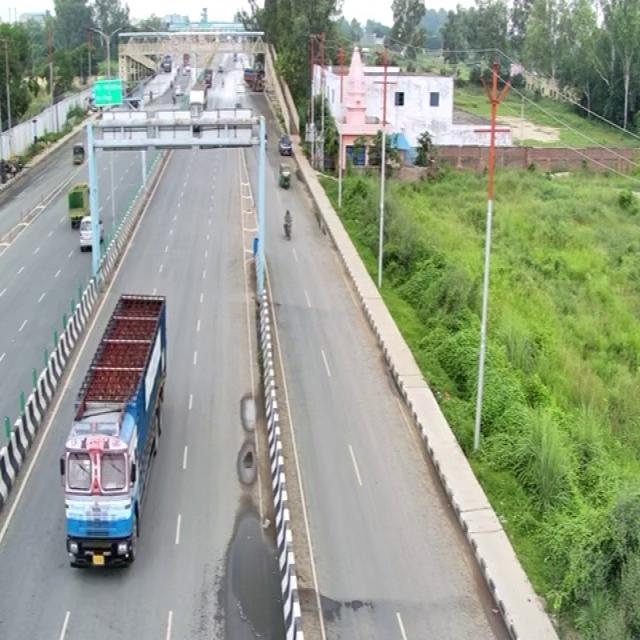car: (63, 176, 93, 235)
